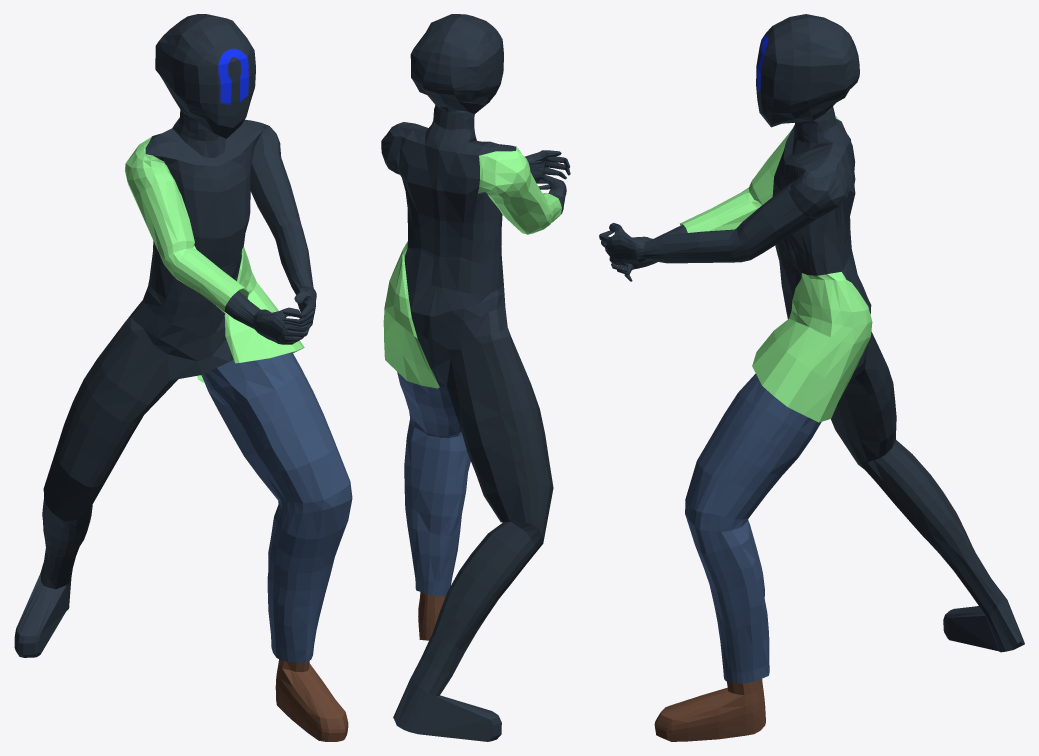
Rendered from Mar_WL_000026.obj.
3 views of the same model, side by side, from view 1: azimuth 30°, elevation 25°; view 2: azimuth 150°, elevation 25°; view 3: azimuth 270°, elevation 25° (orthographic). The views are drawn at different scales.
Parts seen in each view (by area): view 1: Cube.000_Cube.001; view 2: Cube.000_Cube.001; view 3: Cube.000_Cube.001.
Part boxes in pixels (x1,y1,x2,y2): Cube.000_Cube.001: (14,14,352,741); Cube.000_Cube.001: (381,14,570,741); Cube.000_Cube.001: (599,14,1024,741).
Bounding box in the file's own units: 1.24 × 3.73 × 2.09.
